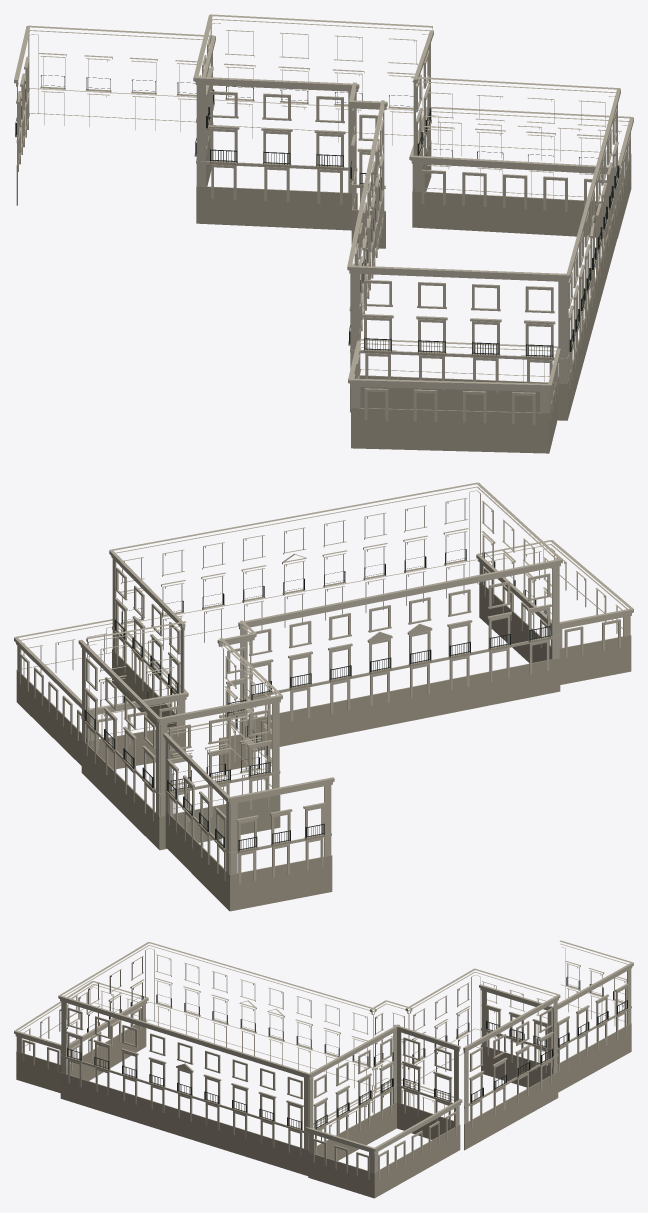
3 views of the same model, one above another, from view 1: azimuth 30°, elevation 25°; view 2: azimuth 150°, elevation 25°; view 3: azimuth 270°, elevation 25° (orthographic). The views are drawn at different scales.
Parts seen in each view (by area): view 1: detail; view 2: detail; view 3: detail.
Part boxes in pixels (x1,y1,x2,y2): detail: (14,14,633,453); detail: (14,482,633,911); detail: (14,940,633,1198).
Bounding box in the file's own units: 40.37 × 11.77 × 63.31.
